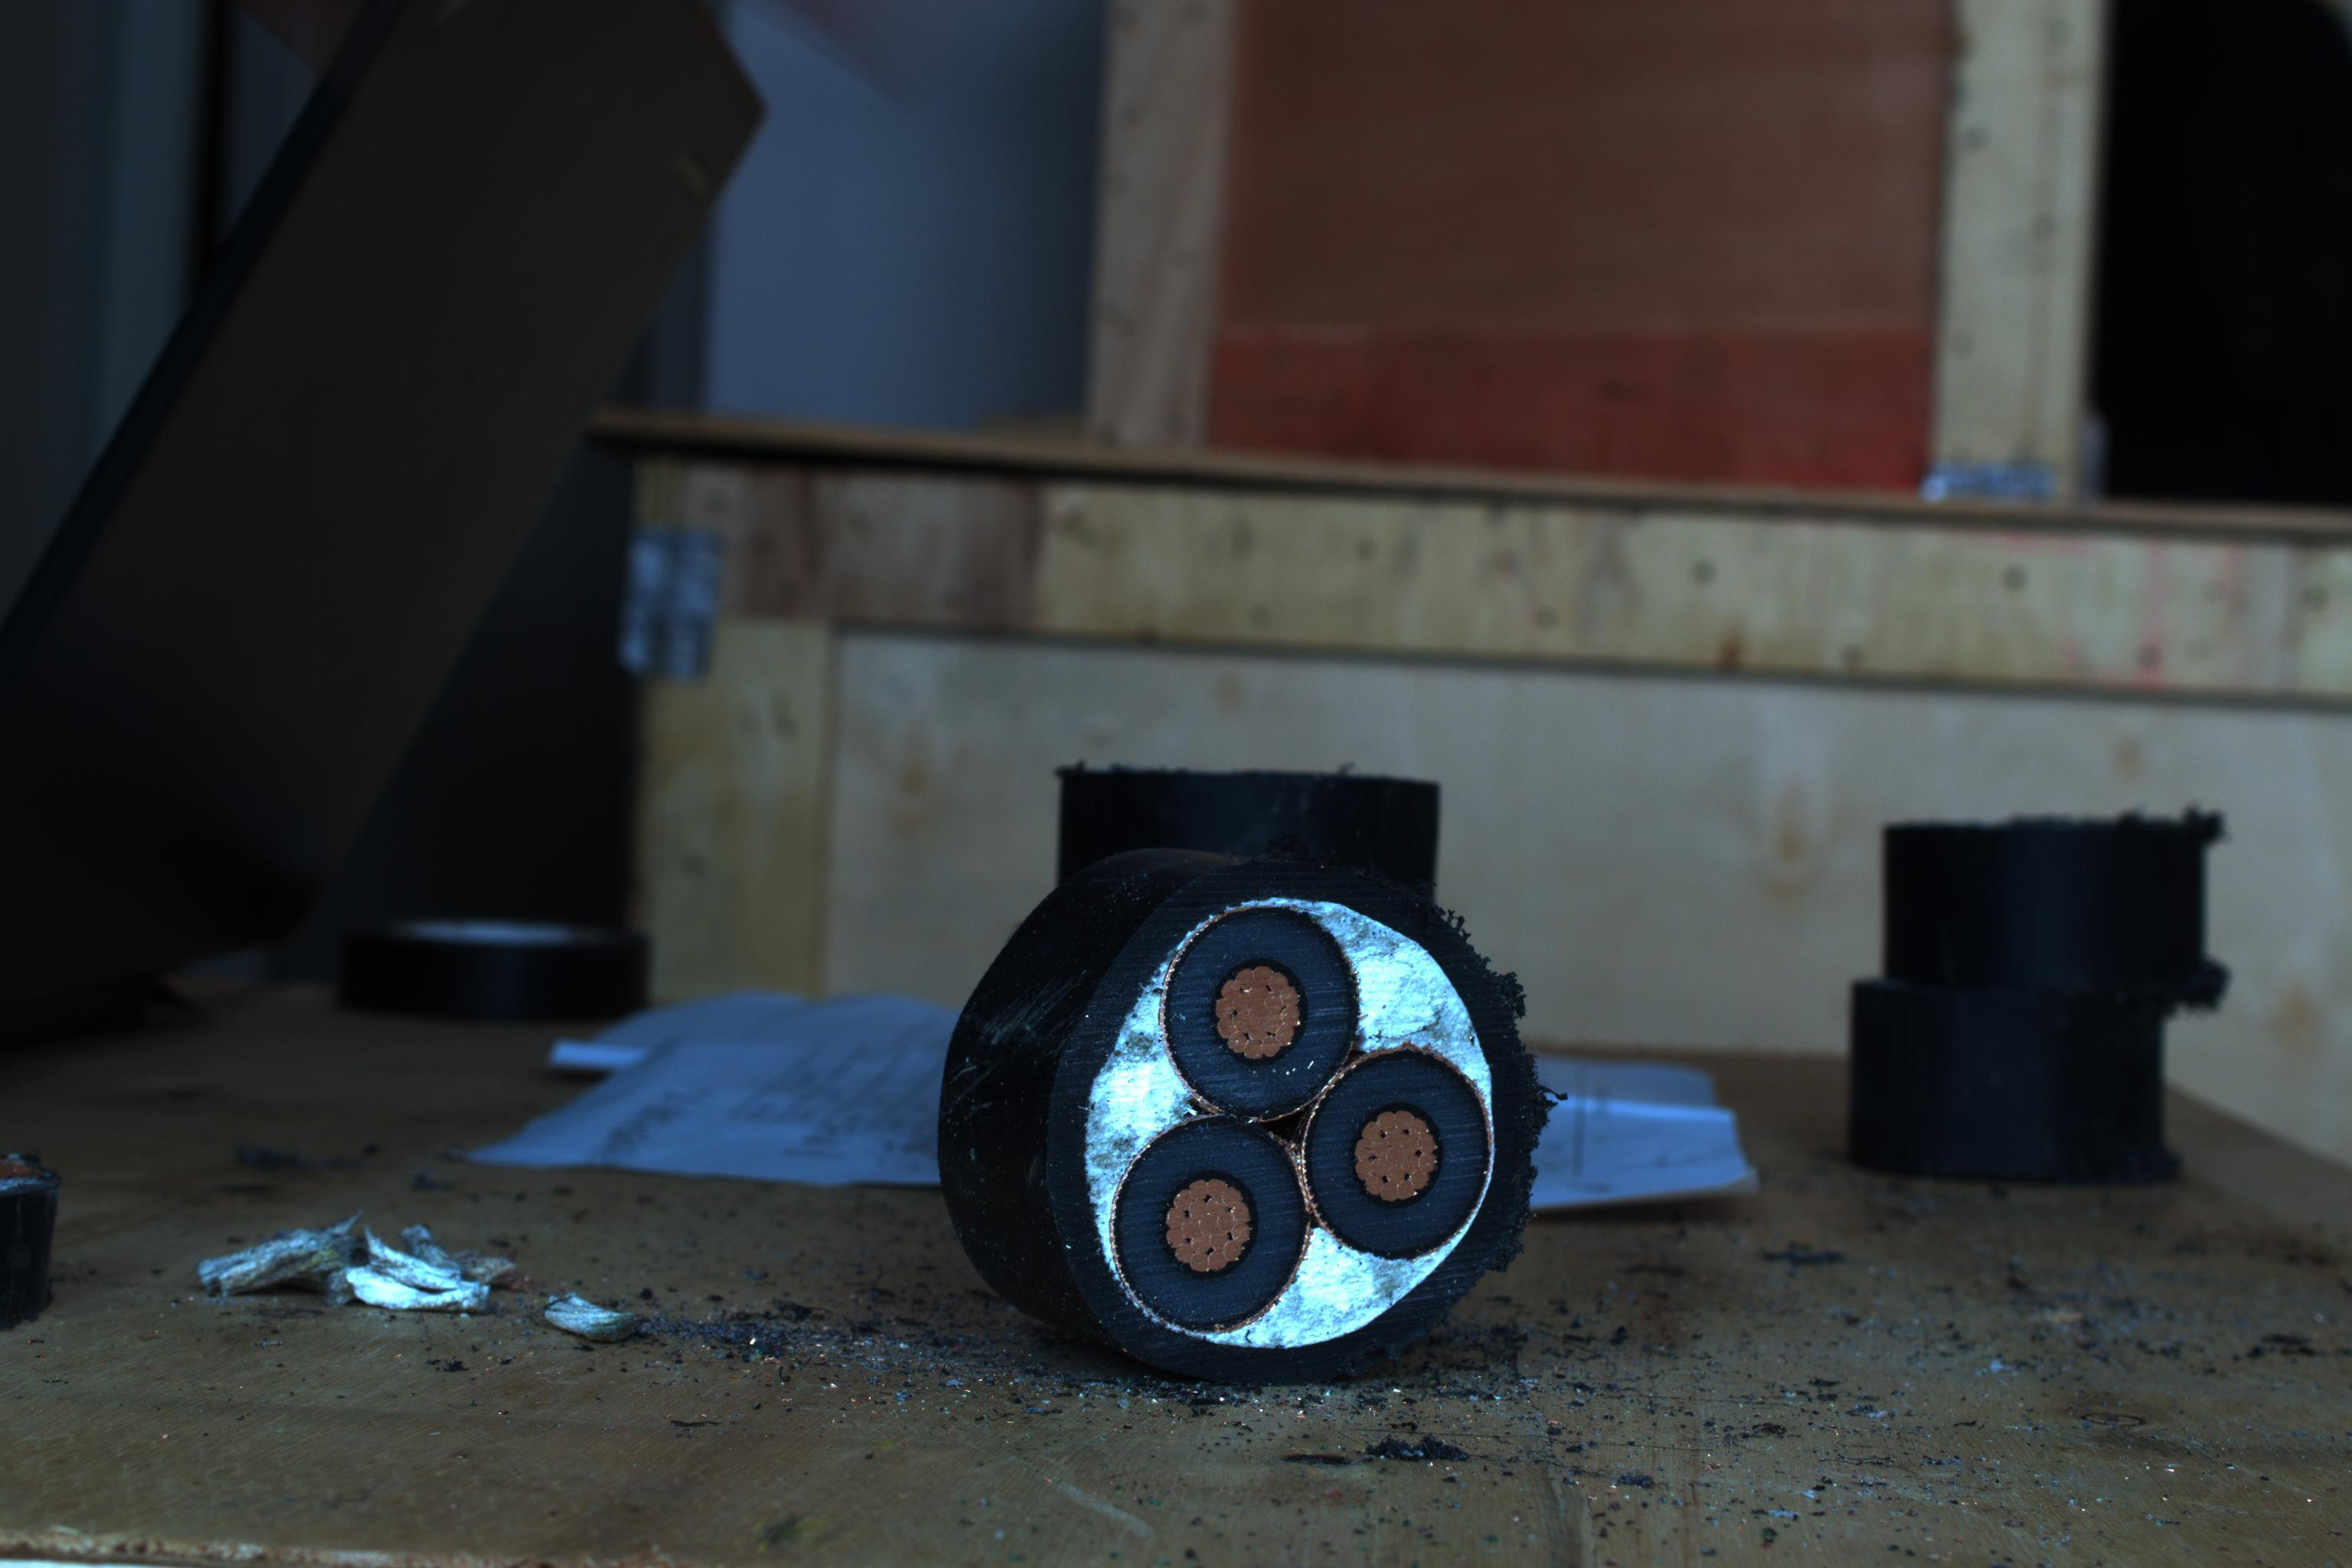YJV_8.7_10kV_3x70: (1038, 870, 1535, 1374)
